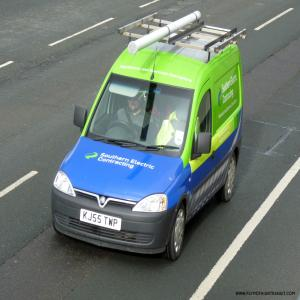Vehicle-registration-plate: (81, 211, 122, 232)
